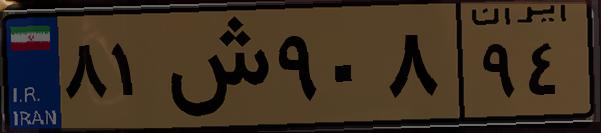0: (330, 28, 385, 110)
1: (110, 28, 158, 98)
4: (525, 38, 570, 115)
8: (385, 28, 445, 110), (57, 26, 110, 100)
9: (270, 28, 330, 110), (475, 38, 525, 113)
ش: (158, 12, 270, 120)
